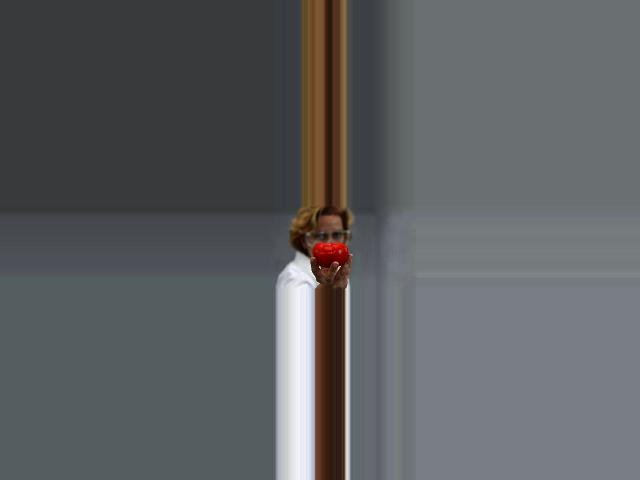tomato: (311, 243, 347, 267)
